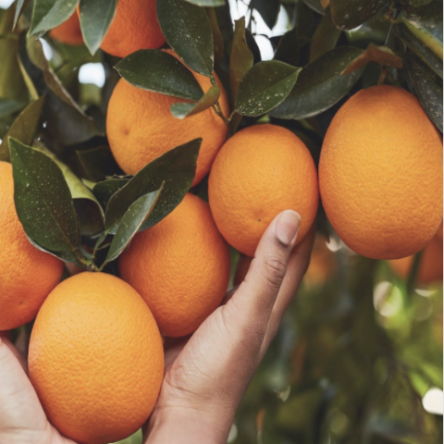orange: (14, 267, 174, 442), (298, 73, 442, 262), (202, 106, 325, 263)
